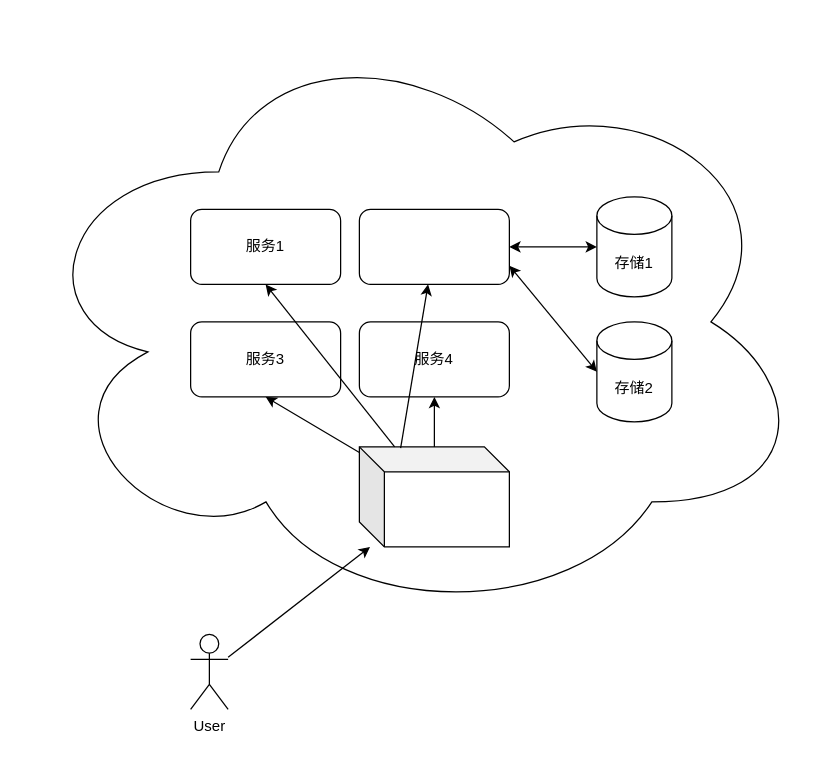
Image size: 831x758. Some labels were removed from this diagram. Here are the shapes that lost their labels. From the top down, the centre of each, then its label:
At pixel 433 246: "服务2".
At pixel 433 496: "网关".
